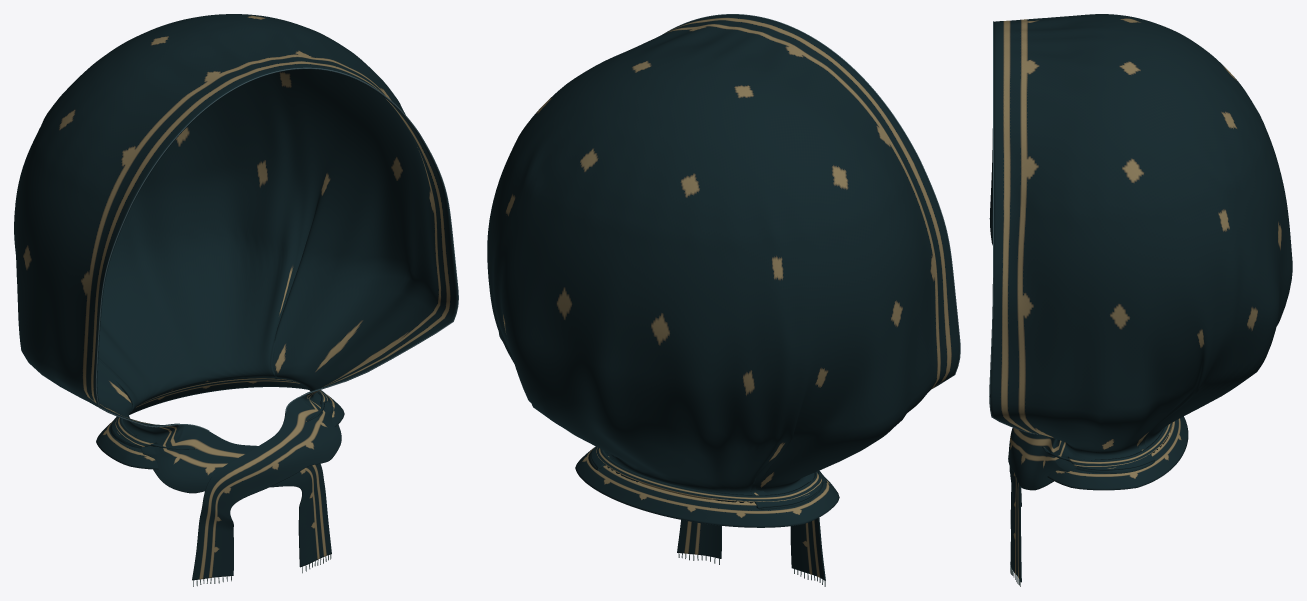
File: Masculine-jersey-pashmina241-headgear.glb
3 views of the same model, side by side, from view 1: azimuth 30°, elevation 25°; view 2: azimuth 150°, elevation 25°; view 3: azimuth 270°, elevation 25° (orthographic). The views are drawn at different scales.
Parts seen in each view (by area): view 1: 226 headgear / Headwear / continuous woven pashmina239, 226 headgear / Headwear / face edge239; view 2: 226 headgear / Headwear / continuous woven pashmina239, 226 headgear / Headwear / face edge239; view 3: 226 headgear / Headwear / continuous woven pashmina239, 226 headgear / Headwear / face edge239.
Part boxes in pixels (x1=…): 226 headgear / Headwear / continuous woven pashmina239: x1=14, y1=14, x2=457, y2=580; 226 headgear / Headwear / face edge239: x1=95, y1=67, x2=458, y2=431; 226 headgear / Headwear / continuous woven pashmina239: x1=487, y1=14, x2=959, y2=580; 226 headgear / Headwear / face edge239: x1=664, y1=14, x2=960, y2=388; 226 headgear / Headwear / continuous woven pashmina239: x1=990, y1=14, x2=1292, y2=582; 226 headgear / Headwear / face edge239: x1=989, y1=21, x2=1040, y2=434.
Bounding box in the file's own units: 1.03 × 1.35 × 0.7127.
3 materials, 1 textured.
